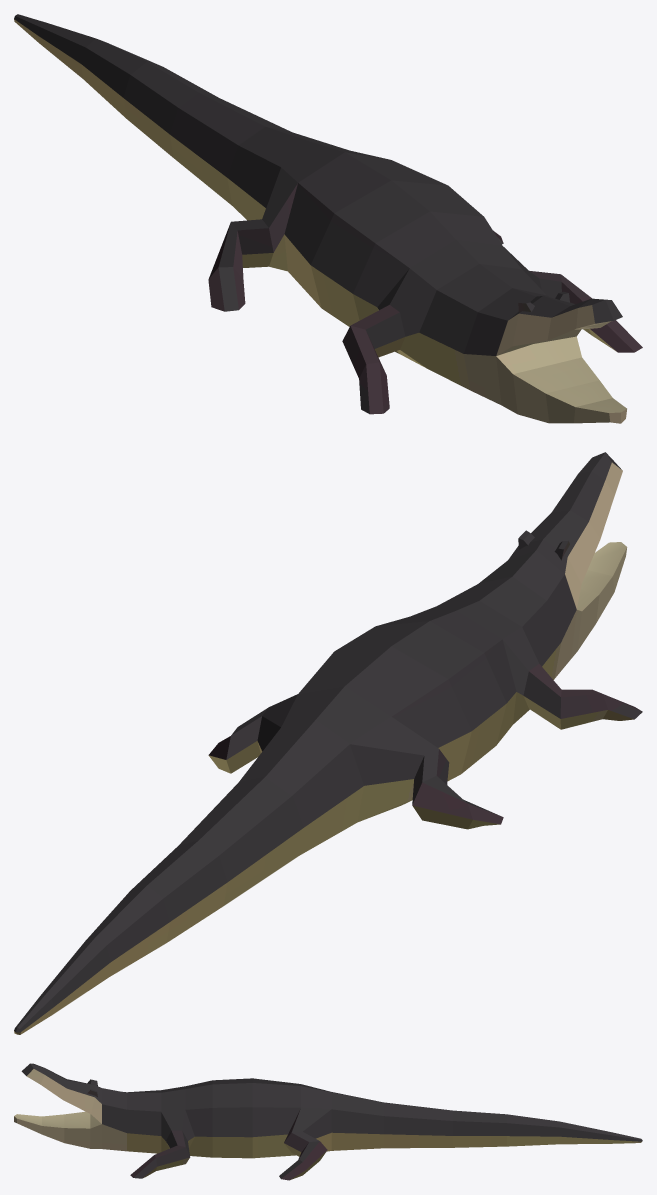
Rendered from animals-crocodile-059.glb.
3 renders of one model, top to bottom at view 1: azimuth 30°, elevation 25°; view 2: azimuth 150°, elevation 25°; view 3: azimuth 270°, elevation 25°, orthographic. The views are drawn at different scales.
Visible parts, largest first — view 1: Geo_Crocodile; view 2: Geo_Crocodile; view 3: Geo_Crocodile.
Part boxes in pixels (bbox=[...]): Geo_Crocodile: bbox=[14, 14, 642, 423]; Geo_Crocodile: bbox=[14, 452, 642, 1034]; Geo_Crocodile: bbox=[14, 1063, 642, 1180].
Size of the model in its own units: 69.89 by 36.64 by 253.
Materials: 1 (1 with a texture image).
